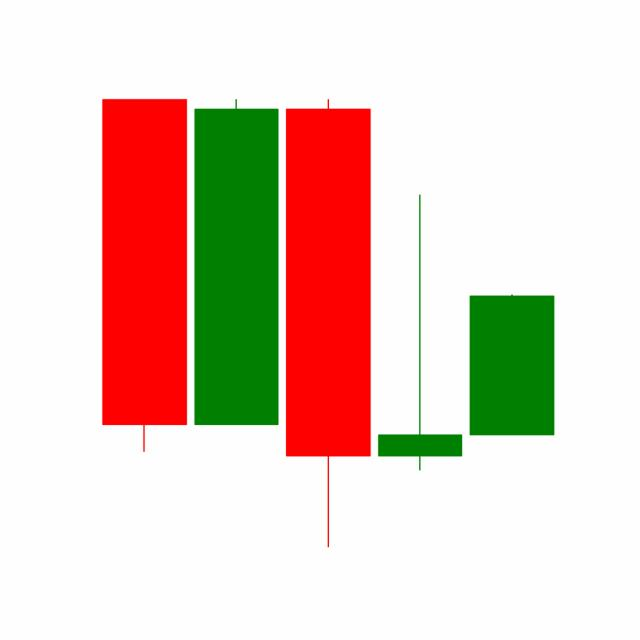Marubozu: (464, 292, 558, 436)
